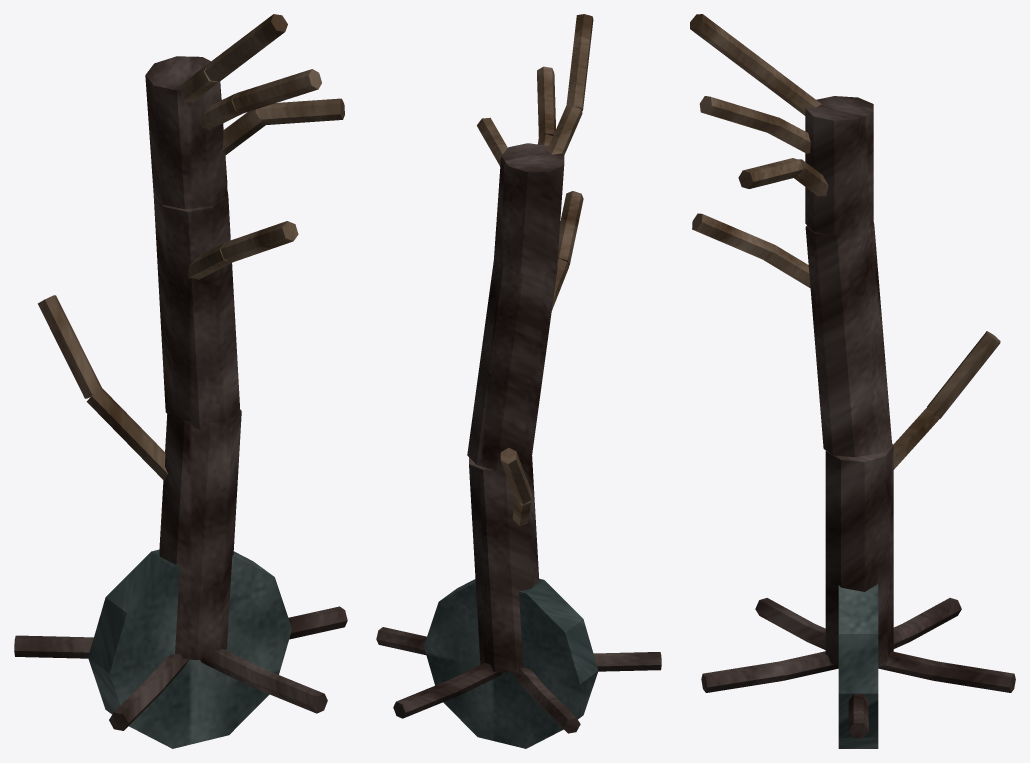
File: 0149_dead_tree_24.glb
3 views of the same model, side by side, from view 1: azimuth 30°, elevation 25°; view 2: azimuth 150°, elevation 25°; view 3: azimuth 270°, elevation 25° (orthographic). The views are drawn at different scales.
Visible parts, largest first — view 1: wood_dark, stone_dark, wood; view 2: wood_dark, stone_dark, wood; view 3: wood_dark, wood, stone_dark.
Part boxes in pixels (<box>): wood_dark: <box>14,56,347,730</box>; stone_dark: <box>88,549,291,748</box>; wood: <box>38,14,344,480</box>; wood_dark: <box>376,143,661,733</box>; stone_dark: <box>424,578,598,748</box>; wood: <box>477,14,593,525</box>; wood_dark: <box>701,96,1015,738</box>; wood: <box>690,14,1000,469</box>; stone_dark: <box>838,584,878,748</box>.
Size of the model in its own units: 1.66 by 4.42 by 1.81.
3 materials, 3 textured.
